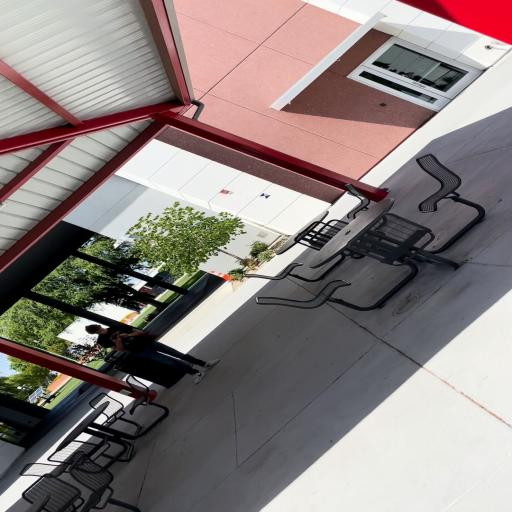target2: (259, 193, 272, 199)
